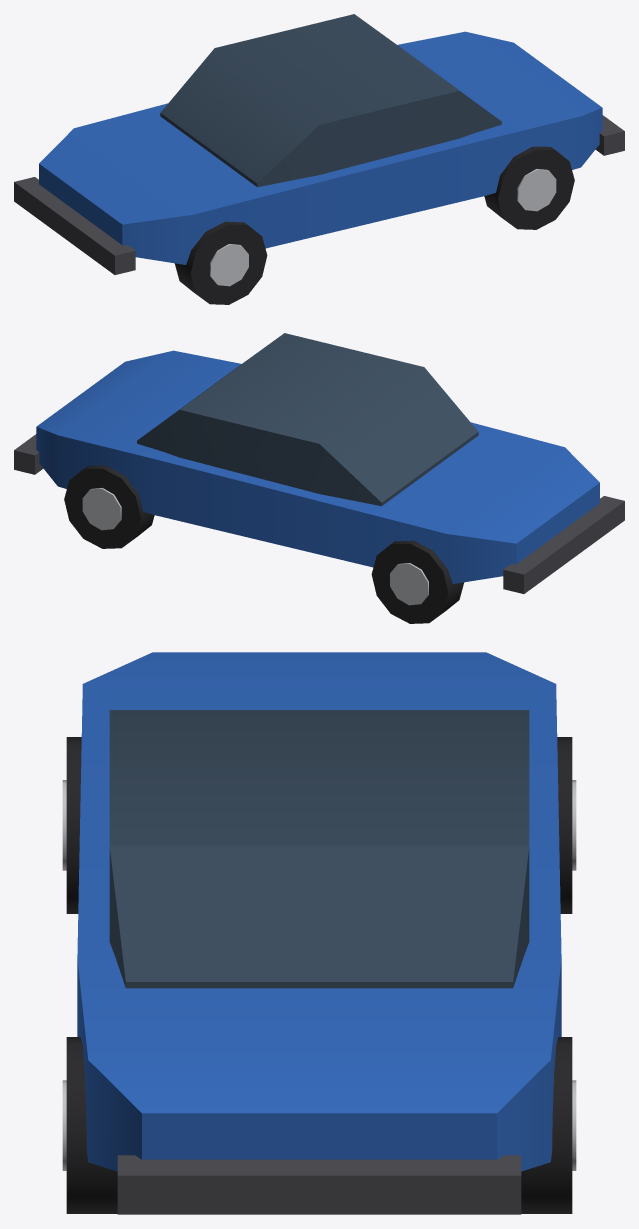
File: car_sedan_blue.fbx
The picture shows the model from 3 angles, top to bottom: view 1: azimuth 30°, elevation 25°; view 2: azimuth 150°, elevation 25°; view 3: azimuth 270°, elevation 25°; orthographic projection. The views are drawn at different scales.
Visible parts, largest first — view 1: Body, Wheel_FR, Wheel_RR; view 2: Body, Wheel_FL, Wheel_RL; view 3: Body, Wheel_RL, Wheel_RR, Wheel_FL, Wheel_FR.
Boxes of the visible parts, x1,y1,x2,y2 form: Body: (14,14,624,274); Wheel_FR: (174,221,267,304); Wheel_RR: (484,146,574,229); Body: (14,333,624,593); Wheel_FL: (371,540,464,623); Wheel_RL: (64,465,154,548); Body: (77,652,561,1214); Wheel_RL: (521,1037,576,1213); Wheel_RR: (62,1037,117,1213); Wheel_FL: (557,737,576,913); Wheel_FR: (62,737,81,913).
Bounding box in the file's own units: 4.38 × 1.21 × 1.91.
